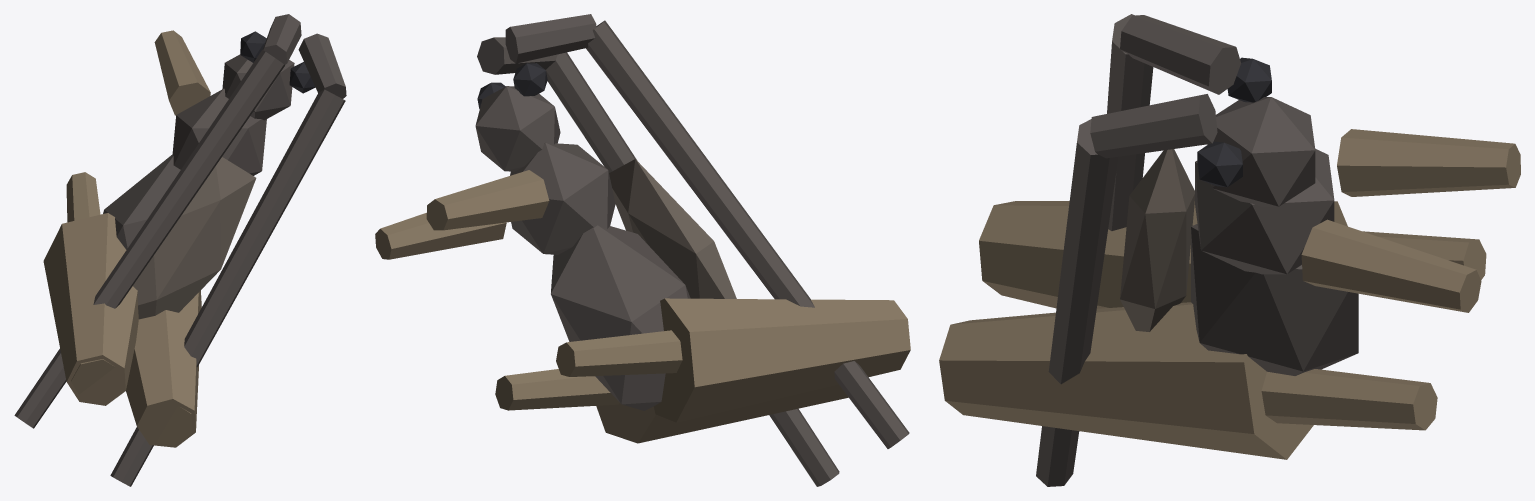
3 views of the same model, side by side, from view 1: azimuth 30°, elevation 25°; view 2: azimuth 150°, elevation 25°; view 3: azimuth 270°, elevation 25° (orthographic). The views are drawn at different scales.
Parts seen in each view (by area): view 1: part12, part8, part6, part9, part10, part1, part2, part15, part13, part0, part5, part7 (+3 smaller); view 2: part12, part8, part2, part9, part1, part6, part0, part15, part13, part10, part11, part14 (+3 smaller); view 3: part10, part2, part6, part15, part12, part14, part9, part1, part11, part0, part5, part7 (+4 smaller).
Boxes of the visible parts, x1,y1,x2,y2 form: part12: (43,213,138,405); part8: (14,50,284,428); part6: (110,89,345,486); part9: (133,157,256,319); part10: (126,290,201,447); part1: (172,88,266,175); part2: (103,154,180,249); part15: (154,30,210,115); part13: (66,172,114,394); part0: (222,54,294,120); part5: (298,33,346,98); part7: (263,14,301,64); part12: (653,298,910,422); part8: (586,20,909,448); part2: (551,225,690,410); part9: (609,159,736,298); part1: (510,142,615,254); part6: (546,52,839,486); part0: (475,86,560,171); part15: (426,170,549,230); part13: (556,330,682,376); part10: (596,384,848,443); part11: (495,369,619,410); part14: (375,212,506,259); part10: (939,302,1313,459); part2: (1191,224,1358,375); part6: (1036,119,1118,486); part15: (1337,129,1520,196); part12: (979,201,1347,308); part14: (1301,219,1481,312); part9: (1120,149,1194,331); part1: (1195,149,1334,274); part11: (1261,369,1437,430); part0: (1207,97,1315,206); part5: (1090,94,1217,158); part7: (1120,15,1240,94).
Size of the model in its own units: 9.51 by 9.91 by 8.65.
